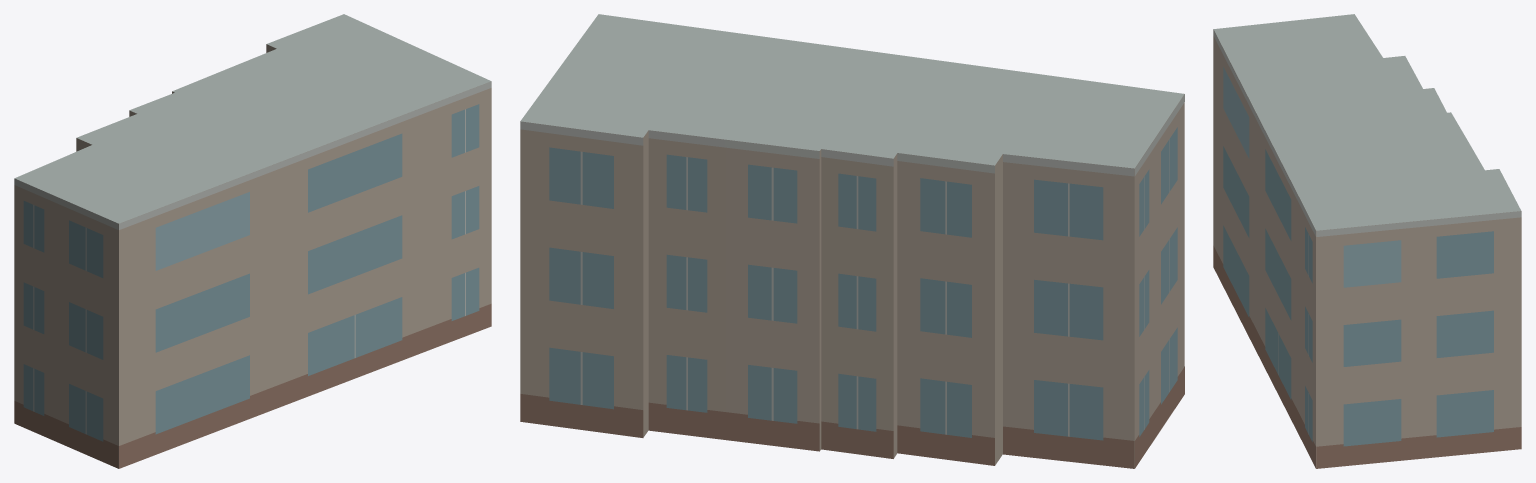
The model's file is survey-upis-32646201.glb.
3 views of the same model, side by side, from view 1: azimuth 30°, elevation 25°; view 2: azimuth 150°, elevation 25°; view 3: azimuth 270°, elevation 25° (orthographic). The views are drawn at different scales.
Parts seen in each view (by area): view 1: survey-upis-32646201.tmp; view 2: survey-upis-32646201.tmp; view 3: survey-upis-32646201.tmp.
Boxes of the visible parts, box(x1,y1,x2,y2) form: survey-upis-32646201.tmp: box(14, 14, 491, 468); survey-upis-32646201.tmp: box(520, 14, 1184, 468); survey-upis-32646201.tmp: box(1213, 14, 1521, 468).
Bounding box in the file's own units: 17.88 × 9.15 × 10.74.
